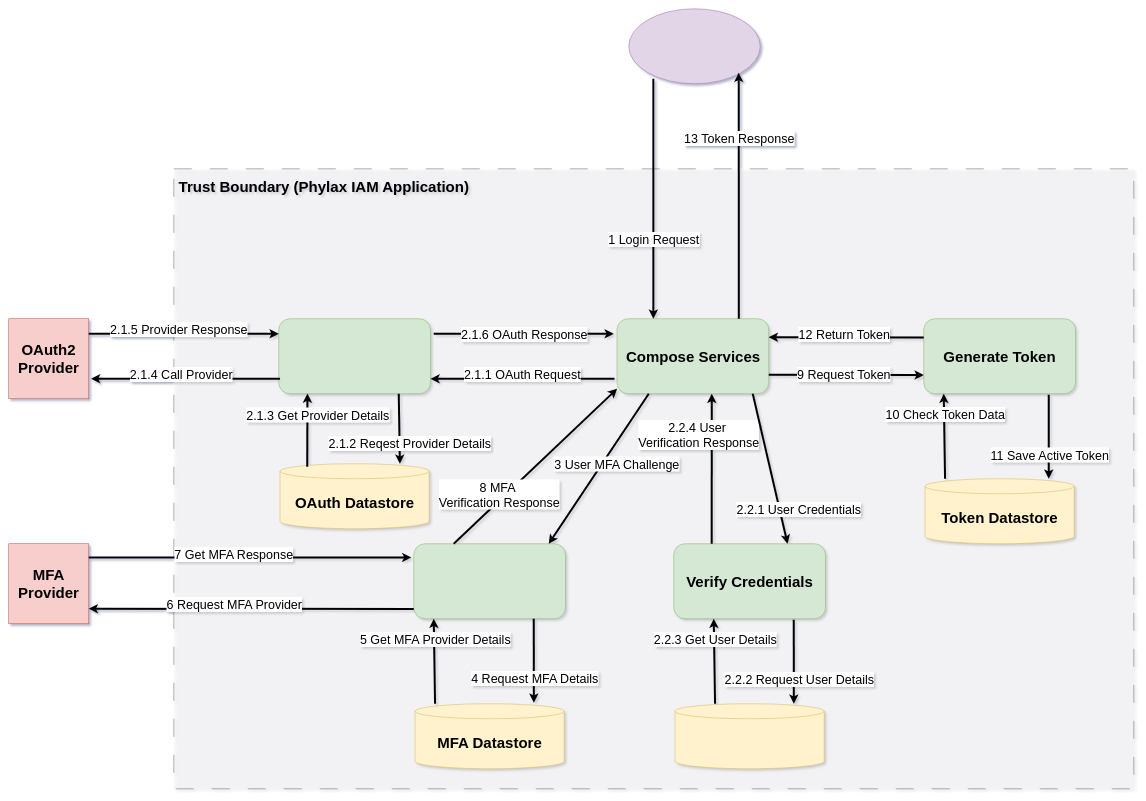
Some shapes in this 1146 by 801 pixel diagram are drawn without their labels. Here are the shapes that lost their labels. From the top down, the box of each, then its label:
(628, 8, 760, 84): End User
(278, 318, 430, 394): Verify OAuth
(413, 543, 566, 619): Verify MFA
(675, 703, 824, 769): User Datastore
